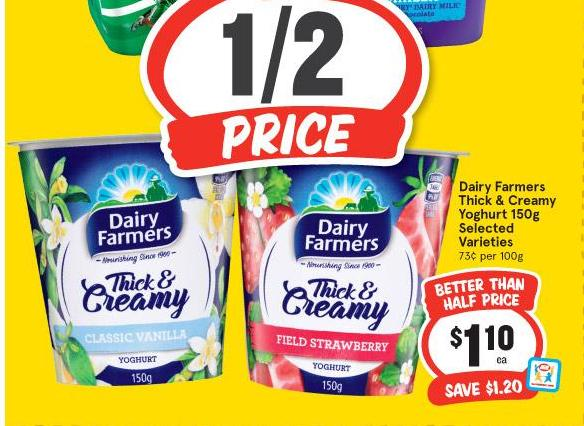description_block: (453, 171, 564, 248)
price_main: (428, 316, 538, 375)
product_image_block: (9, 141, 447, 405)
promo_text_block: (438, 377, 534, 402)
unit_price_block: (454, 250, 536, 263)
